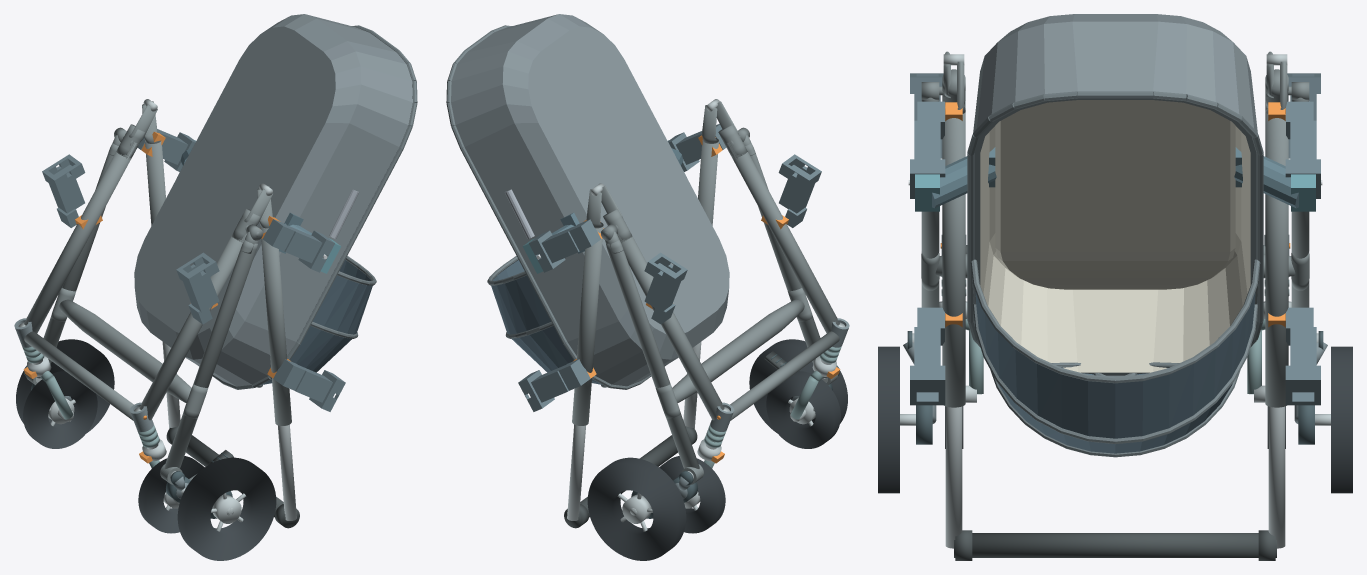
File: S06_w550_state3_wheel_S.glb
The picture shows the model from 3 angles, left to right: view 1: azimuth 30°, elevation 25°; view 2: azimuth 150°, elevation 25°; view 3: azimuth 270°, elevation 25°; orthographic projection. The views are drawn at different scales.
Visible parts, largest first — view 1: S06_Cabin, RL_tire.002, FR_tire.002, main_lower_1.003, V46_rear_leg_-1.003, main_upper_-1.003, V46_rearbar.003, main_lower_-1.003, RR_tire.002, FL_tire.002, Universal_Cabin_Receiver_M_-1, Universal_Cabin_Receiver_H_-1 (+14 smaller); view 2: S06_Cabin, RR_tire.002, FL_tire.002, main_lower_-1.003, V46_rear_leg_1.003, main_upper_1.003, V46_rearbar.003, main_lower_1.003, FR_tire.002, RL_tire.002, Universal_Cabin_Receiver_H_1, Universal_Cabin_Receiver_M_1 (+14 smaller); view 3: S06_Cabin, round_handle.002, main_upper_1.003, main_upper_-1.003, S06_Cabin_Mount_M, RL_tire.002, RR_tire.002, Universal_Cabin_Receiver_H_1, Universal_Cabin_Receiver_H_-1, handle_slider_1.002, handle_slider_-1.002, Universal_Cabin_Receiver_M_-1 (+11 smaller).
Part boxes in pixels (box(x1,y1,x2,y2)): S06_Cabin: box(134, 14, 417, 389); RL_tire.002: box(177, 457, 276, 560); FR_tire.002: box(23, 371, 97, 448); main_lower_1.003: box(24, 142, 137, 333); V46_rear_leg_-1.003: box(164, 240, 257, 468); main_upper_-1.003: box(260, 226, 291, 425); V46_rearbar.003: box(59, 299, 191, 402); main_lower_-1.003: box(139, 234, 246, 420); RR_tire.002: box(16, 339, 114, 433); FL_tire.002: box(138, 456, 204, 533); Universal_Cabin_Receiver_M_-1: box(263, 219, 334, 272); Universal_Cabin_Receiver_H_-1: box(273, 359, 345, 411); S06_Cabin: box(446, 14, 729, 389); RR_tire.002: box(587, 457, 686, 560); FL_tire.002: box(766, 371, 840, 448); main_lower_-1.003: box(726, 142, 839, 333); V46_rear_leg_1.003: box(606, 240, 699, 468); main_upper_1.003: box(572, 224, 603, 425); V46_rearbar.003: box(672, 299, 804, 402); main_lower_1.003: box(617, 234, 724, 420); FR_tire.002: box(659, 456, 725, 533); RL_tire.002: box(749, 339, 847, 433); Universal_Cabin_Receiver_H_1: box(518, 359, 590, 411); Universal_Cabin_Receiver_M_1: box(529, 219, 600, 272); S06_Cabin: box(967, 14, 1263, 457); round_handle.002: box(954, 533, 1276, 557); main_upper_1.003: box(1265, 110, 1288, 407); main_upper_-1.003: box(942, 112, 965, 407); S06_Cabin_Mount_M: box(908, 147, 1322, 211); RL_tire.002: box(878, 346, 899, 493); RR_tire.002: box(1331, 346, 1352, 493); Universal_Cabin_Receiver_H_1: box(1285, 307, 1320, 405); Universal_Cabin_Receiver_H_-1: box(910, 307, 945, 405); handle_slider_1.002: box(1268, 406, 1285, 548); handle_slider_-1.002: box(945, 406, 962, 548); Universal_Cabin_Receiver_M_-1: box(910, 101, 945, 198).
Size of the model in its own units: 0.6919 by 0.9098 by 0.6471.
